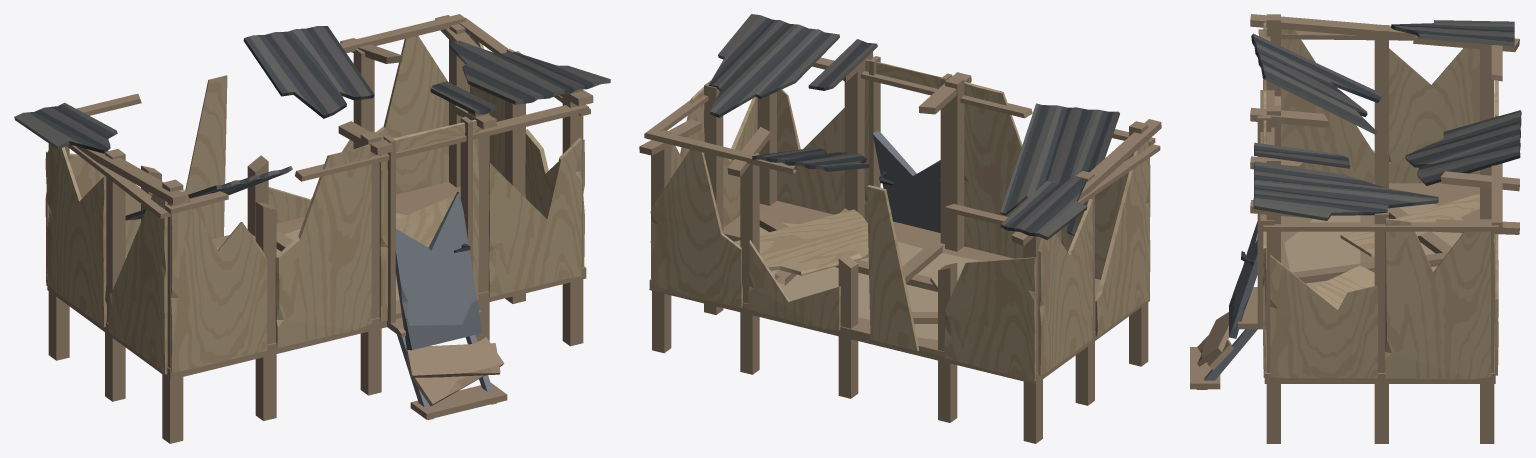
Rendered from SM_Bld_Plywood_Shed_Small_Destroyed_01.fbx.
The picture shows the model from 3 angles, left to right: view 1: azimuth 30°, elevation 25°; view 2: azimuth 150°, elevation 25°; view 3: azimuth 270°, elevation 25°; orthographic projection. The views are drawn at different scales.
Visible parts, largest first — view 1: SM_Bld_Plywood_Shed_Small_Destroyed_01; view 2: SM_Bld_Plywood_Shed_Small_Destroyed_01; view 3: SM_Bld_Plywood_Shed_Small_Destroyed_01.
Part boxes in pixels (x1=…): SM_Bld_Plywood_Shed_Small_Destroyed_01: x1=14, y1=14, x2=610, y2=443; SM_Bld_Plywood_Shed_Small_Destroyed_01: x1=639, y1=14, x2=1161, y2=443; SM_Bld_Plywood_Shed_Small_Destroyed_01: x1=1190, y1=14, x2=1521, y2=443.
Size of the model in its own units: 657 by 367 by 439.
